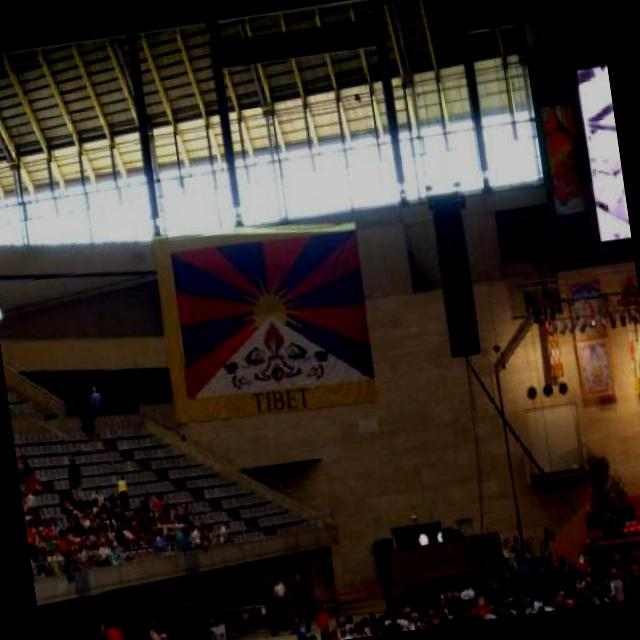Person: (283, 510, 640, 640), (16, 425, 236, 581), (263, 576, 279, 636), (272, 578, 288, 630), (237, 590, 254, 633), (101, 619, 128, 640), (90, 384, 107, 410), (147, 618, 160, 640), (278, 576, 288, 598), (156, 632, 177, 640)
